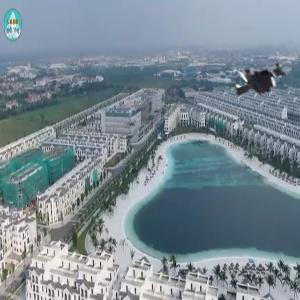drone: (217, 36, 299, 118)
